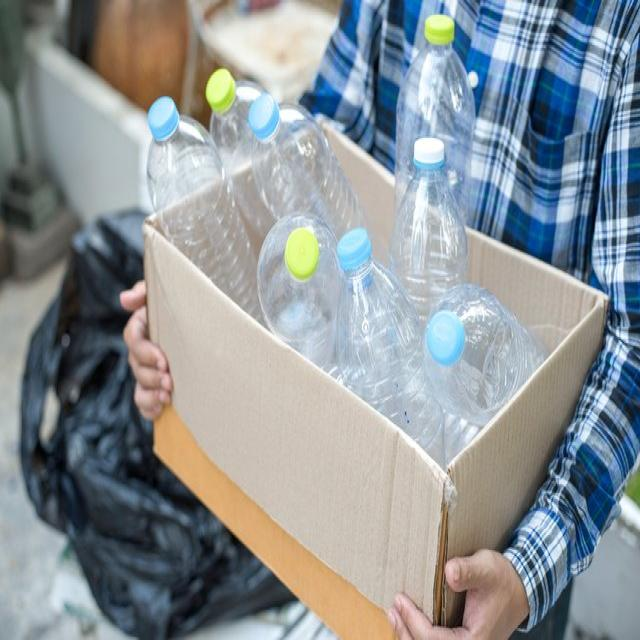plastic: (145, 59, 366, 362), (380, 12, 472, 316), (331, 223, 445, 463), (430, 272, 548, 418)
